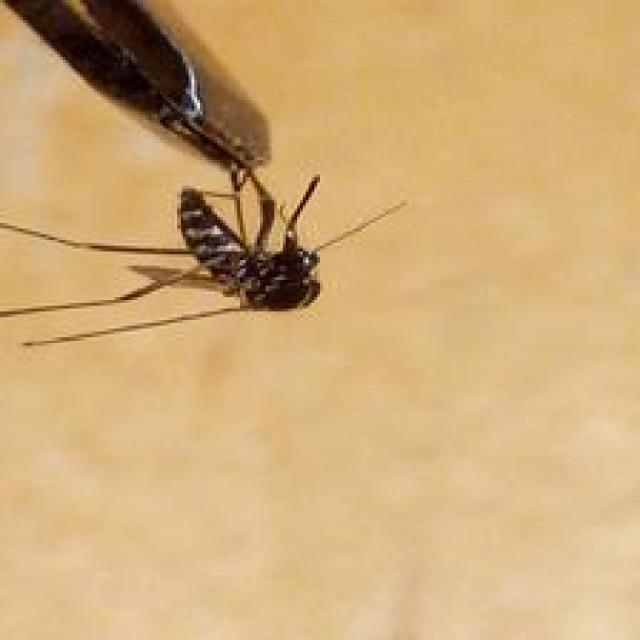Aedes albopictus: (0, 168, 409, 348)
